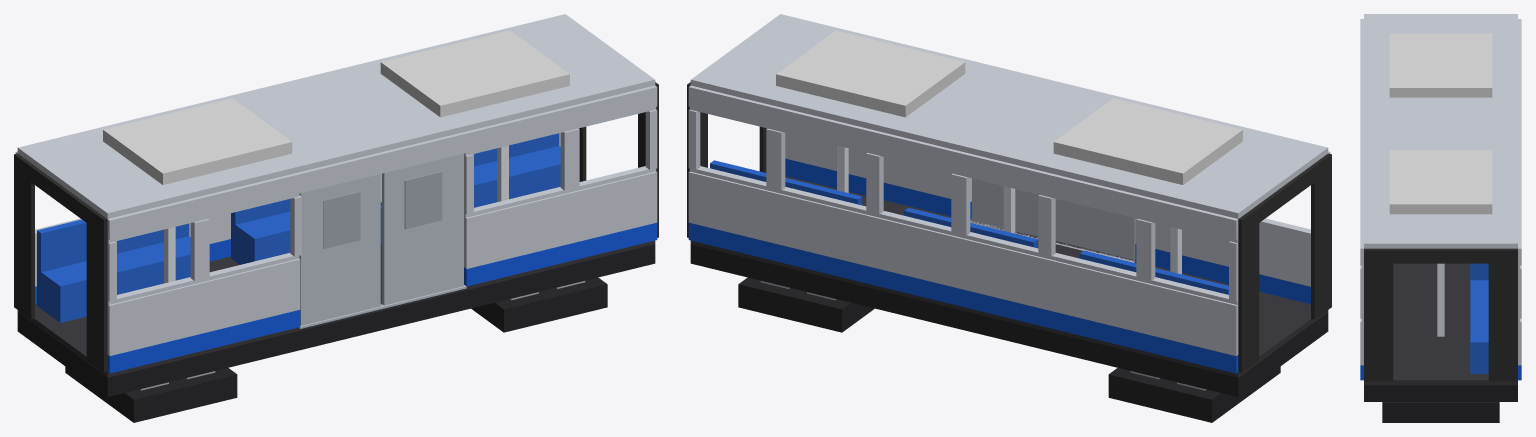
Rendered from metro_wagon_closed.obj.
The picture shows the model from 3 angles, left to right: view 1: azimuth 30°, elevation 25°; view 2: azimuth 150°, elevation 25°; view 3: azimuth 270°, elevation 25°; orthographic projection. The views are drawn at different scales.
Size of the model in its own units: 3 by 1.26 by 0.88.
